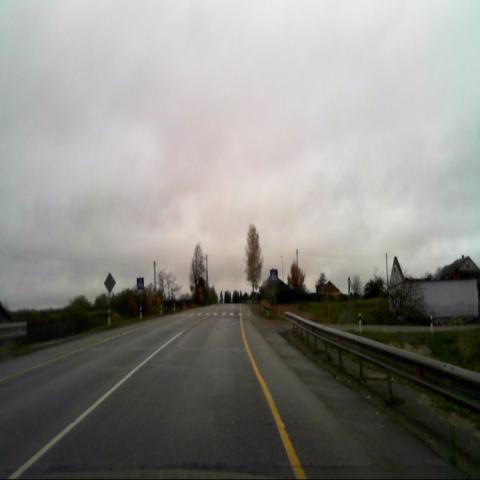5_19_1: (269, 268, 278, 284), (136, 275, 144, 290)
